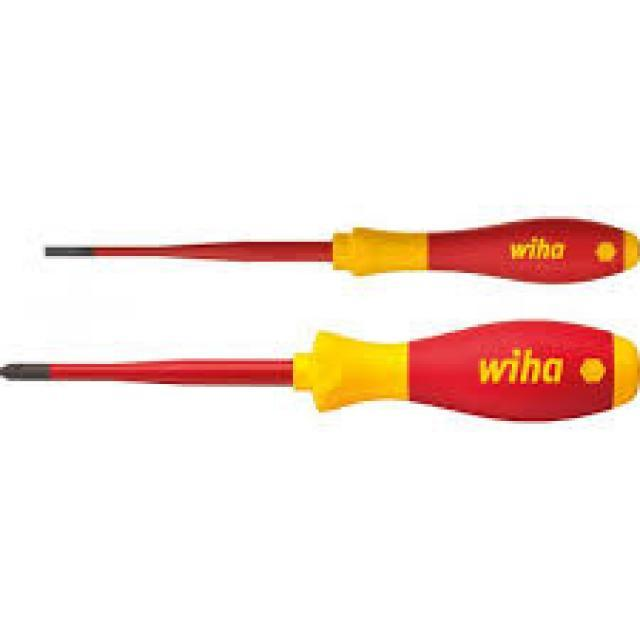screwdriver: (0, 314, 640, 426), (25, 207, 640, 295)
